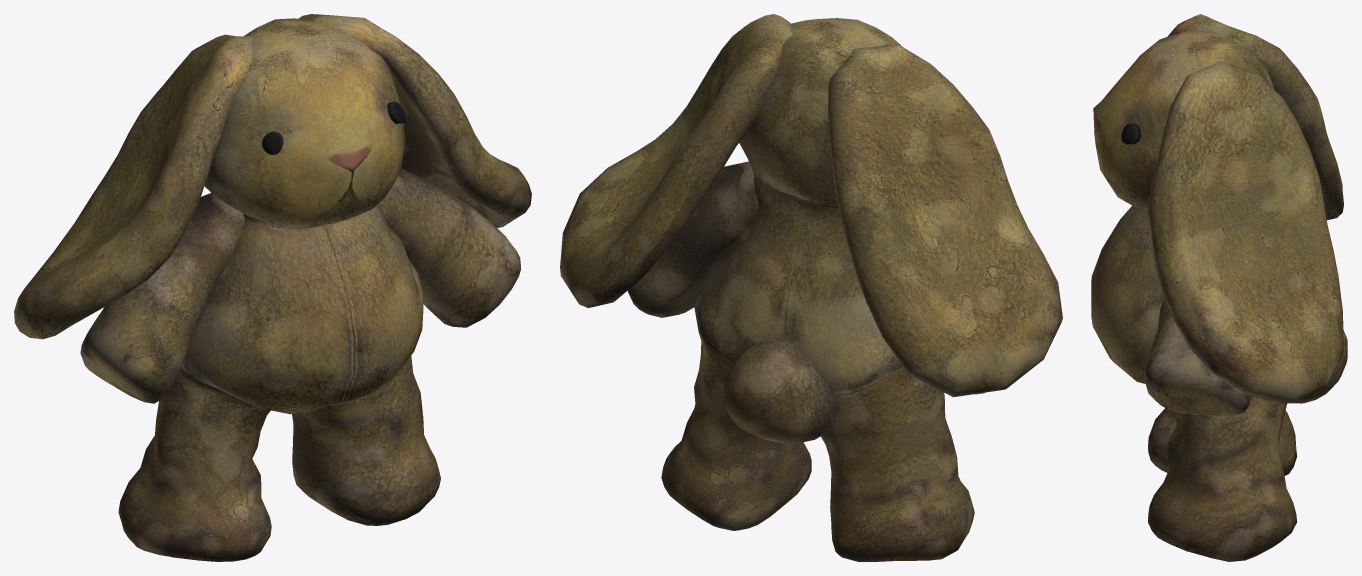
Rendered from SM_RabbitDoll_01.fbx.
The picture shows the model from 3 angles, left to right: view 1: azimuth 30°, elevation 25°; view 2: azimuth 150°, elevation 25°; view 3: azimuth 270°, elevation 25°; orthographic projection. The views are drawn at different scales.
Parts seen in each view (by area): view 1: Rabbit_row; view 2: Rabbit_row; view 3: Rabbit_row.
Boxes of the visible parts, x1,y1,x2,y2 form: Rabbit_row: [14, 14, 531, 561]; Rabbit_row: [560, 14, 1062, 561]; Rabbit_row: [1091, 14, 1347, 561].
Bounding box in the file's own units: 131 × 127 × 63.92.
